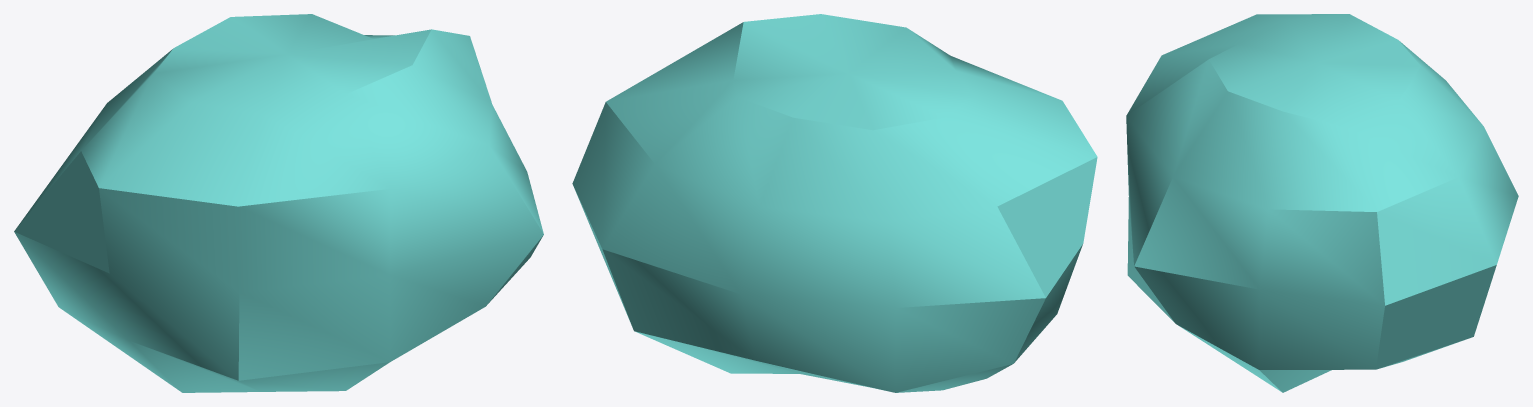
The model's file is CandyRock_Mint.fbx.
The picture shows the model from 3 angles, left to right: view 1: azimuth 30°, elevation 25°; view 2: azimuth 150°, elevation 25°; view 3: azimuth 270°, elevation 25°; orthographic projection. The views are drawn at different scales.
Visible parts, largest first — view 1: CandyRock_Mint; view 2: CandyRock_Mint; view 3: CandyRock_Mint.
Boxes of the visible parts, x1,y1,x2,y2 form: CandyRock_Mint: (14,14,543,392); CandyRock_Mint: (572,14,1097,392); CandyRock_Mint: (1126,14,1518,392).
Bounding box in the file's own units: 3.99 × 2.42 × 3.06.
